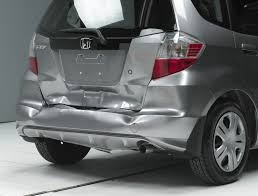Smashed: (15, 67, 196, 157)
